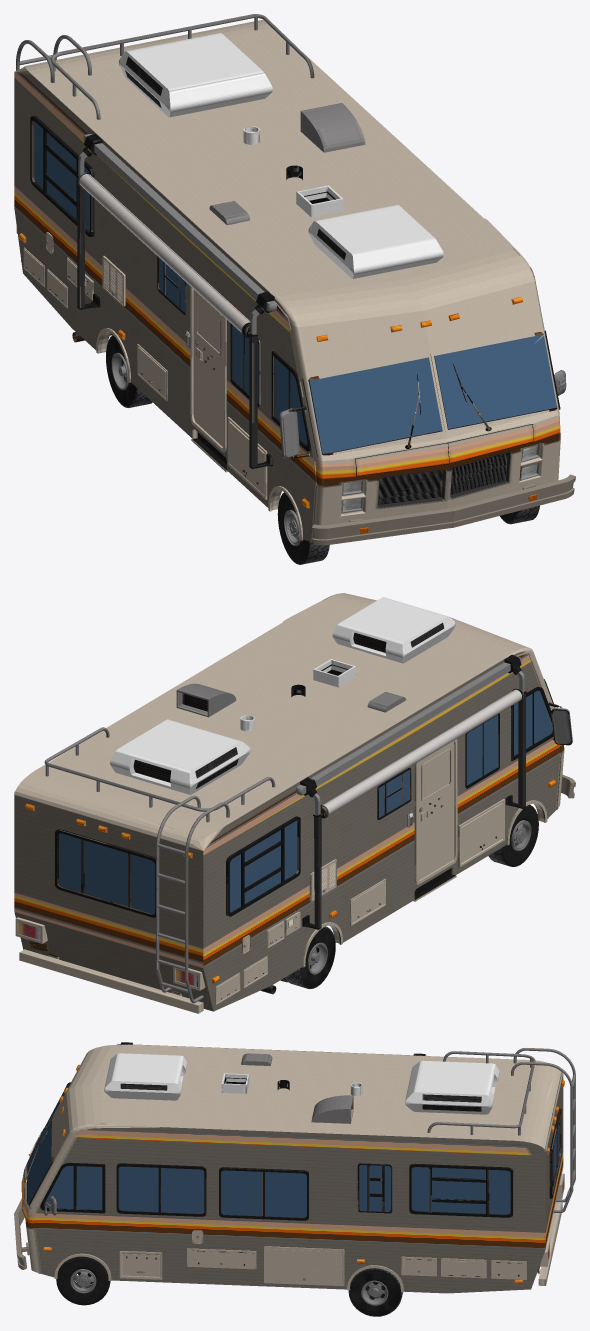
File: breaking_bad_1986_fleetwood_bounder_rv.glb
3 views of the same model, one above another, from view 1: azimuth 30°, elevation 25°; view 2: azimuth 150°, elevation 25°; view 3: azimuth 270°, elevation 25° (orthographic). The views are drawn at different scales.
Visible parts, largest first — view 1: Plane.007, Cube.005, Cylinder.005; view 2: Plane.007, Cylinder.005; view 3: Plane.007, Cylinder.005, Cube.005.
Boxes of the visible parts, x1=… form: Plane.007: x1=14, y1=14, x2=566, y2=542; Cube.005: x1=312, y1=474, x2=575, y2=545; Cylinder.005: x1=106, y1=335, x2=539, y2=564; Plane.007: x1=14, y1=593, x2=572, y2=1013; Cylinder.005: x1=280, y1=804, x2=538, y2=988; Plane.007: x1=21, y1=1042, x2=575, y2=1296; Cylinder.005: x1=56, y1=1256, x2=402, y2=1316; Cube.005: x1=14, y1=1198, x2=29, y2=1269.
Size of the model in its own units: 3.97 by 3.46 by 8.67.
Materials: 35 (32 with a texture image).
